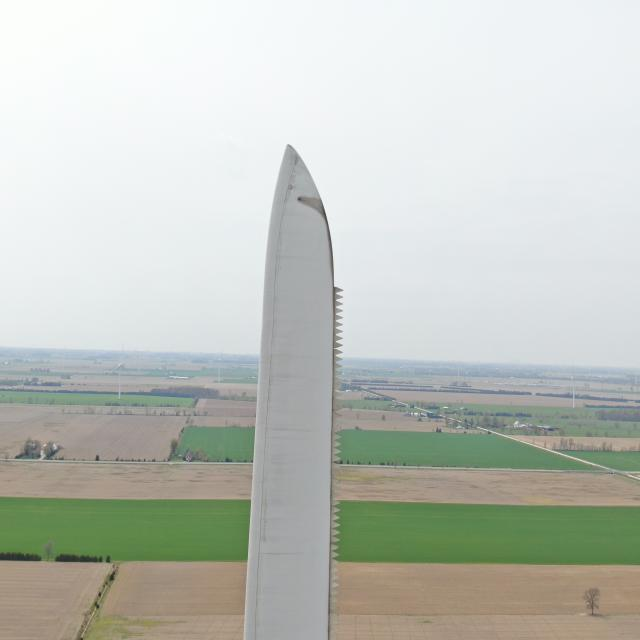damage: (296, 193, 302, 203)
